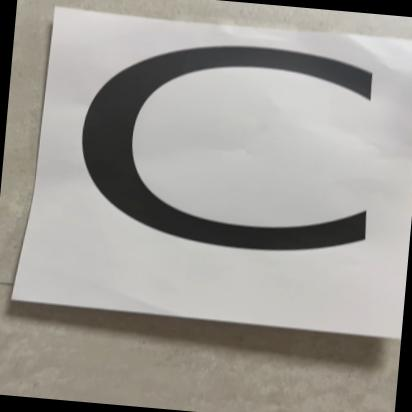seat: (36, 10, 412, 341)
